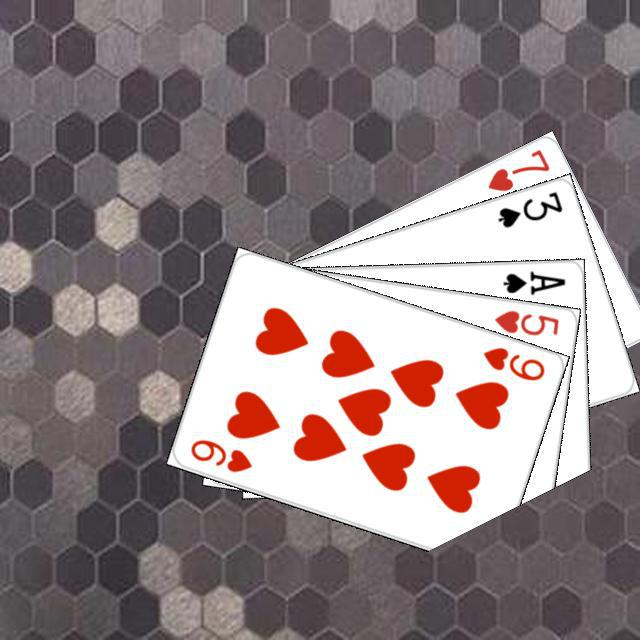3s: (492, 186, 564, 230)
5h: (489, 305, 561, 337)
7h: (482, 144, 552, 194)
9h: (477, 342, 547, 383), (185, 434, 254, 474)
As: (498, 266, 567, 297)
